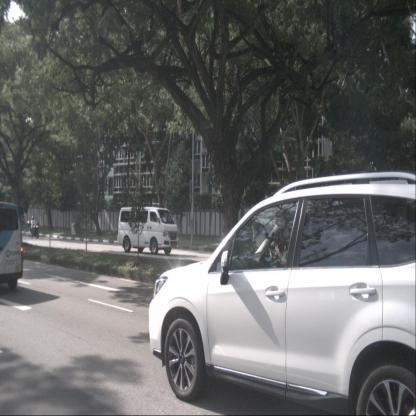vehicle-car: (148, 183, 416, 416), (117, 207, 179, 255), (0, 201, 23, 289)
vehicle-motorcycle: (27, 215, 39, 239)
